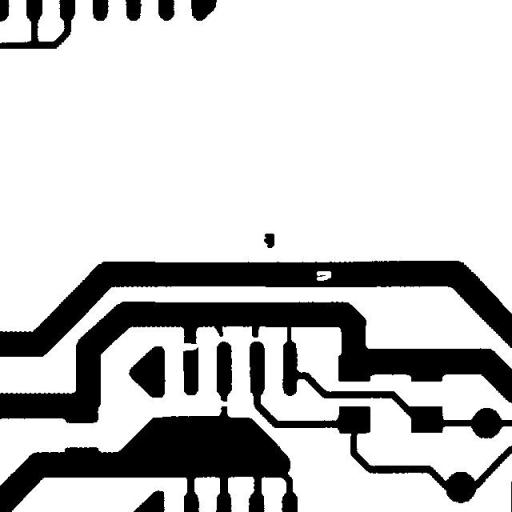copper: (256, 226, 282, 255)
open: (172, 334, 206, 358), (210, 392, 236, 414)
pin-hole: (309, 263, 338, 288)
short: (279, 316, 299, 350)
spur: (206, 314, 230, 344), (244, 315, 266, 345)
